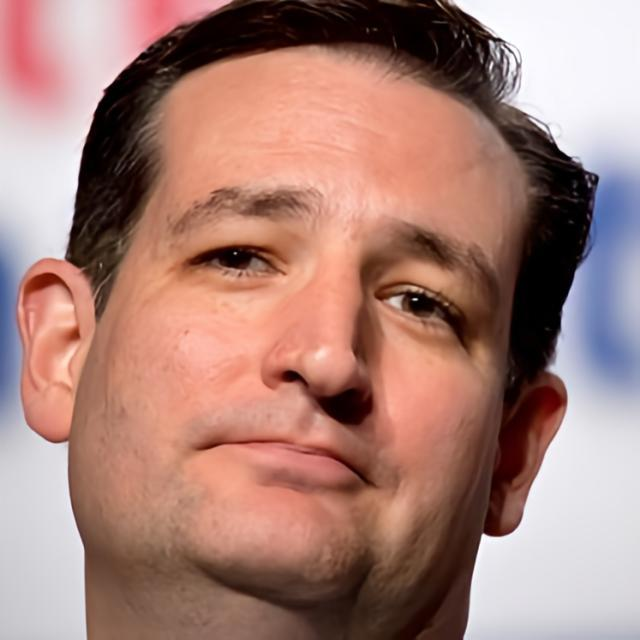content: (69, 46, 536, 612)
